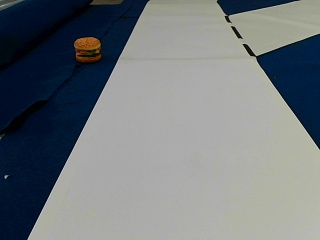burger: (73, 35, 101, 61)
